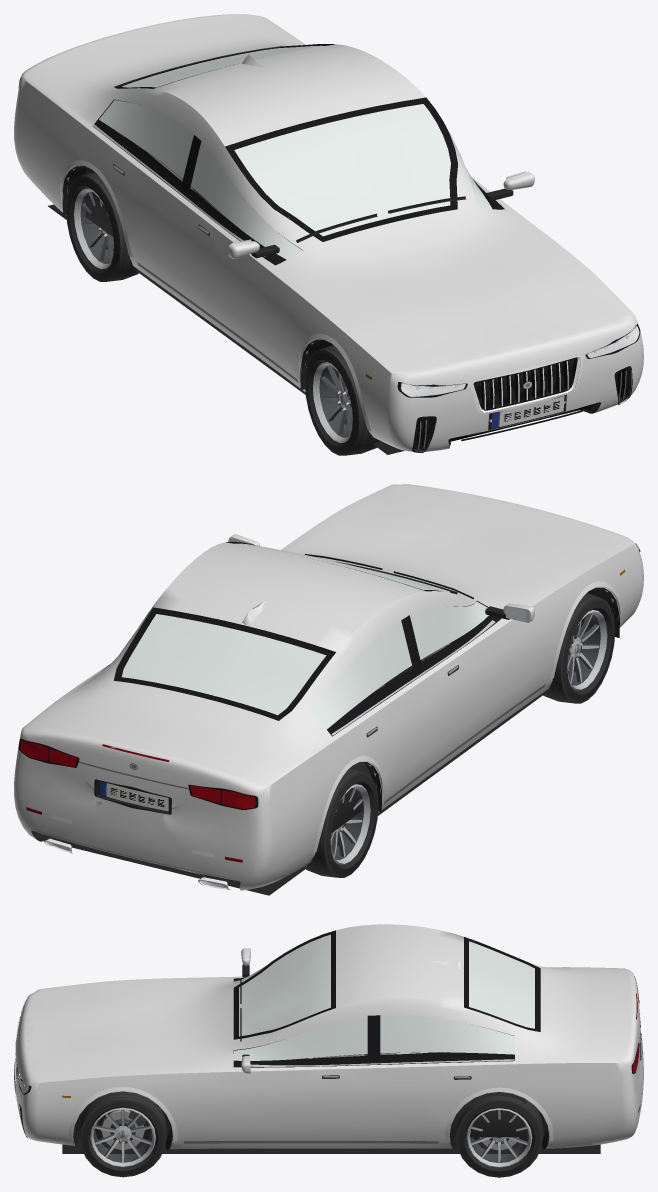
Rendered from TrafficSedanB_complete_unity.fbx.
3 renders of one model, top to bottom at view 1: azimuth 30°, elevation 25°; view 2: azimuth 150°, elevation 25°; view 3: azimuth 270°, elevation 25°, orthographic. The views are drawn at different scales.
Parts seen in each view (by area): view 1: Body_LOD0, Glass_LOD0, Trim_LOD0, Wheel_FR_LOD0, Wheel_RR_LOD0, Lights_LOD0, Interior_LOD0; view 2: Body_LOD0, Glass_LOD0, Trim_LOD0, Wheel_FR_LOD0, Wheel_RR_LOD0, Lights_LOD0, Interior_LOD0; view 3: Body_LOD0, Glass_LOD0, Trim_LOD0, Wheel_FL_LOD0, Wheel_RL_LOD0, Interior_LOD0.
Boxes of the visible parts, x1,y1,x2,y2 form: Body_LOD0: (14, 14, 643, 452); Glass_LOD0: (99, 45, 492, 259); Trim_LOD0: (18, 44, 640, 454); Wheel_FR_LOD0: (305, 345, 380, 455); Wheel_RR_LOD0: (66, 173, 138, 281); Lights_LOD0: (365, 326, 639, 396); Interior_LOD0: (85, 153, 225, 236); Body_LOD0: (14, 484, 643, 890); Glass_LOD0: (110, 543, 488, 729); Trim_LOD0: (18, 538, 640, 895); Wheel_FR_LOD0: (543, 592, 615, 703); Wheel_RR_LOD0: (306, 769, 378, 877); Lights_LOD0: (20, 543, 639, 857); Interior_LOD0: (331, 639, 461, 832); Body_LOD0: (14, 924, 643, 1149); Glass_LOD0: (233, 934, 534, 1060); Trim_LOD0: (14, 930, 642, 1153); Wheel_FL_LOD0: (78, 1091, 167, 1177); Wheel_RL_LOD0: (455, 1095, 543, 1177); Interior_LOD0: (302, 1052, 525, 1137).
Size of what is drawn, in the model's own units: 2.18 by 1.49 by 4.97.
